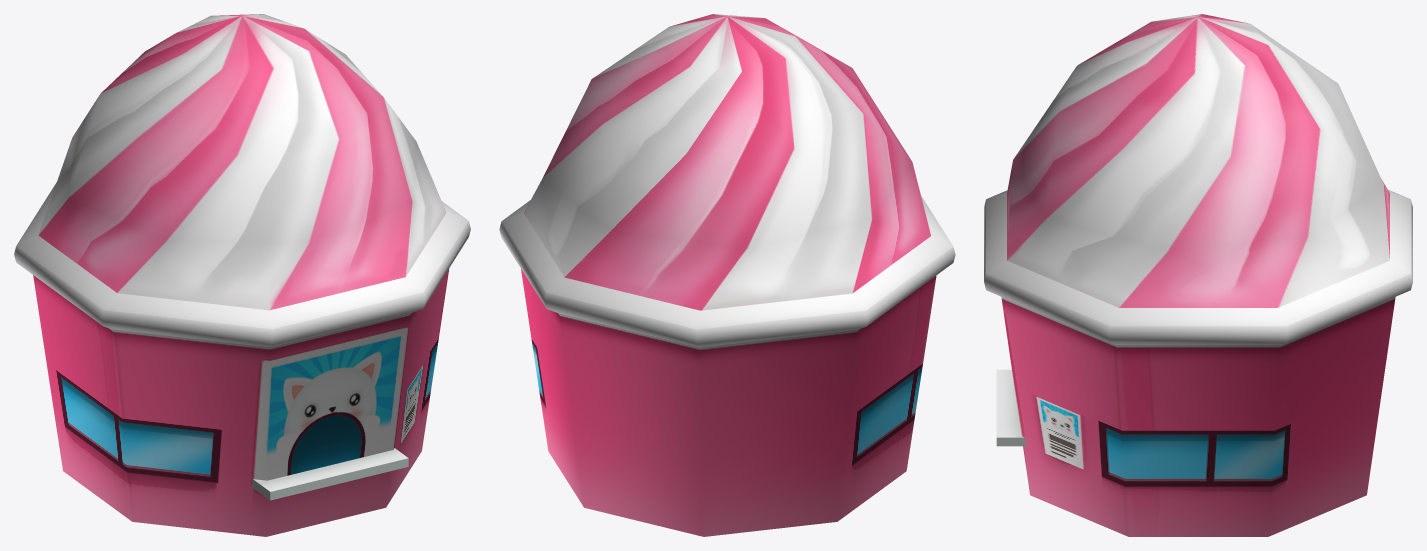
The model's file is IceCream.FBX.
3 renders of one model, left to right at view 1: azimuth 30°, elevation 25°; view 2: azimuth 150°, elevation 25°; view 3: azimuth 270°, elevation 25°, orthographic.
Visible parts, largest first — view 1: IceCream, pCube1; view 2: IceCream; view 3: IceCream, pCube1.
Boxes of the visible parts, x1,y1,x2,y2 form: IceCream: [14, 14, 470, 536]; pCube1: [252, 448, 408, 500]; IceCream: [499, 14, 955, 536]; IceCream: [984, 14, 1412, 536]; pCube1: [996, 369, 1026, 446].
Size of the model in its own units: 5.54 by 6.4 by 5.54.
